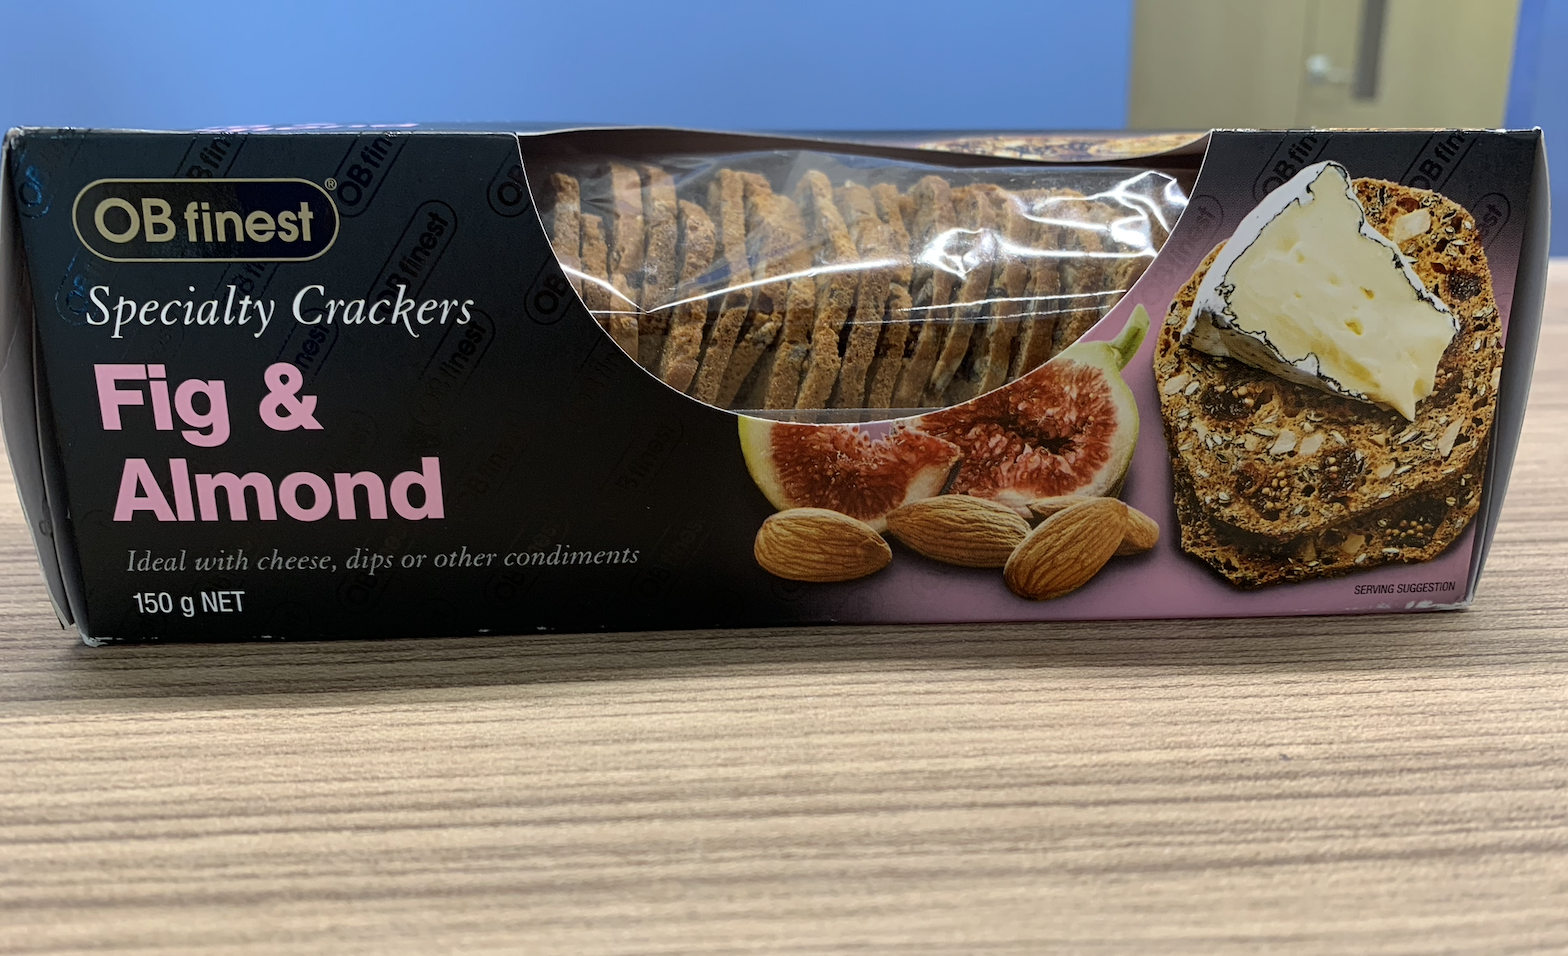crackers_100g-199g: (71, 166, 1505, 625)
